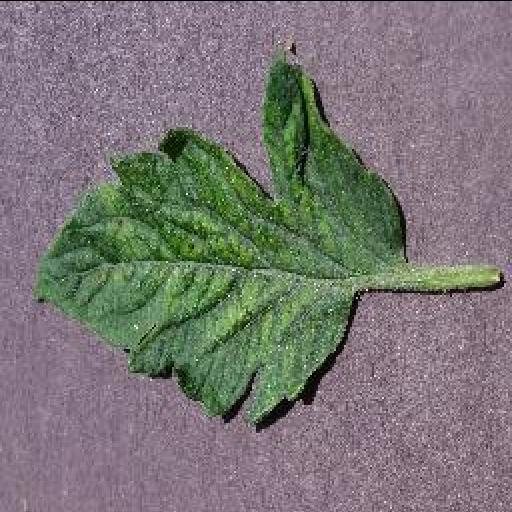Mosaic Virus: (32, 56, 406, 426)
